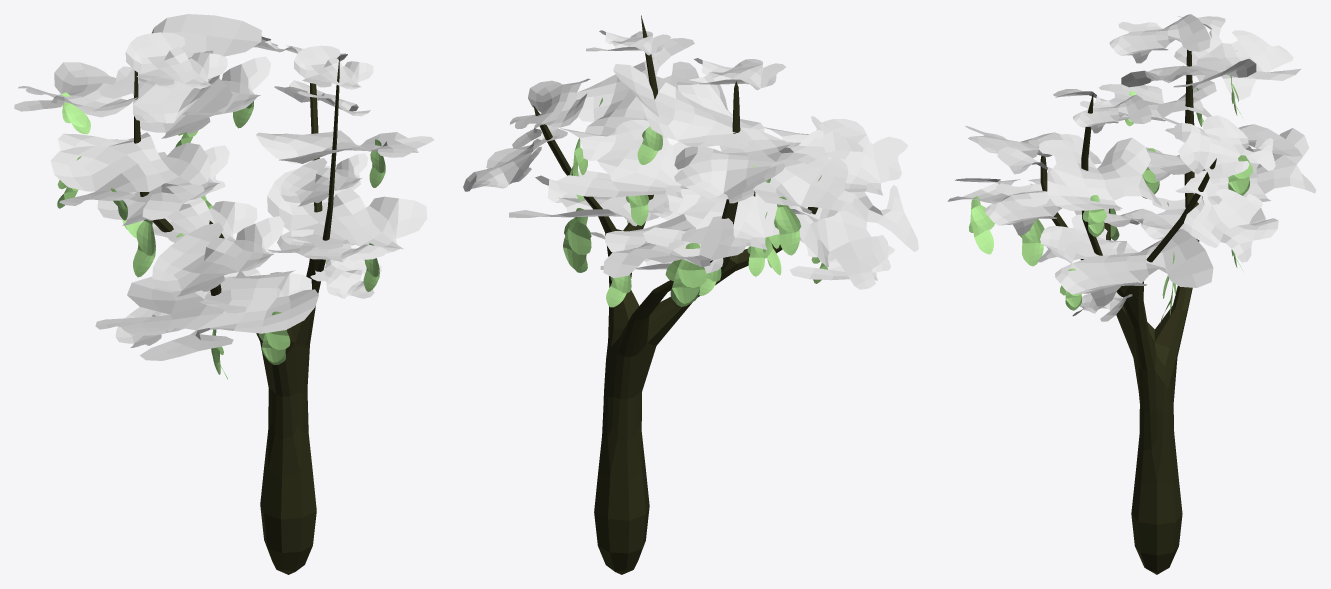
Rendered from Cynometra_ramiflora.fbx.
The picture shows the model from 3 angles, left to right: view 1: azimuth 30°, elevation 25°; view 2: azimuth 150°, elevation 25°; view 3: azimuth 270°, elevation 25°; orthographic projection. The views are drawn at different scales.
Parts seen in each view (by area): view 1: Cube; view 2: Cube; view 3: Cube.
Boxes of the visible parts, bbox=[...] form: Cube: bbox=[14, 14, 434, 574]; Cube: bbox=[463, 15, 918, 574]; Cube: bbox=[947, 14, 1316, 574].
Bounding box in the file's own units: 1051 × 1562 × 1046.
